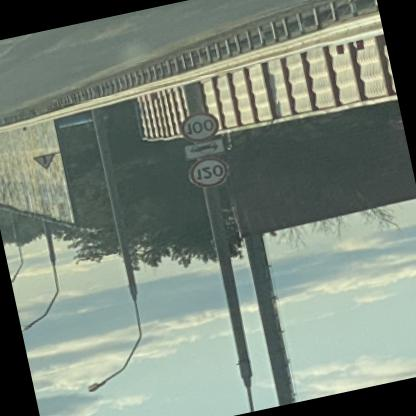speedlimit: (183, 156, 227, 192), (174, 110, 218, 146)
